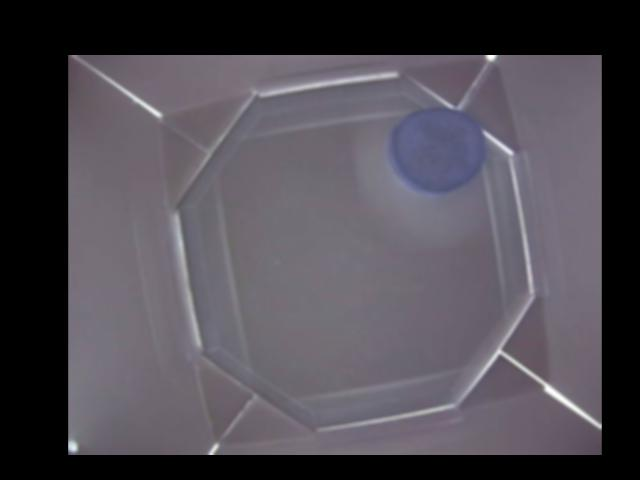Mooli: (387, 106, 487, 194)
